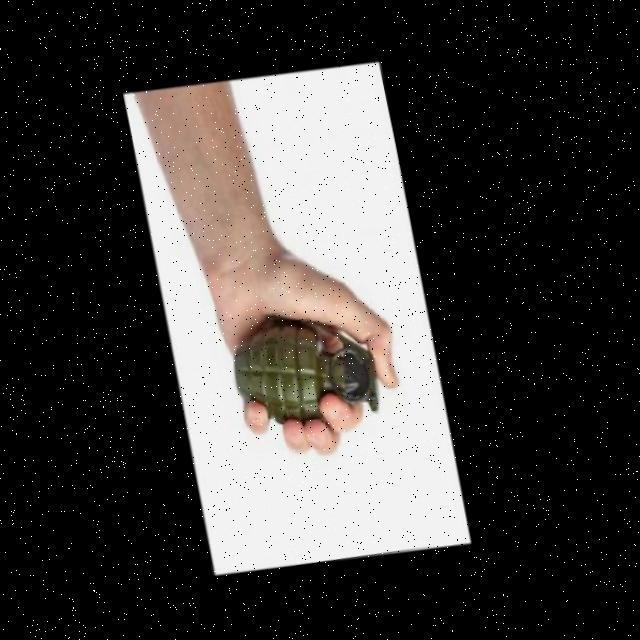grenade: (215, 293, 388, 445)
